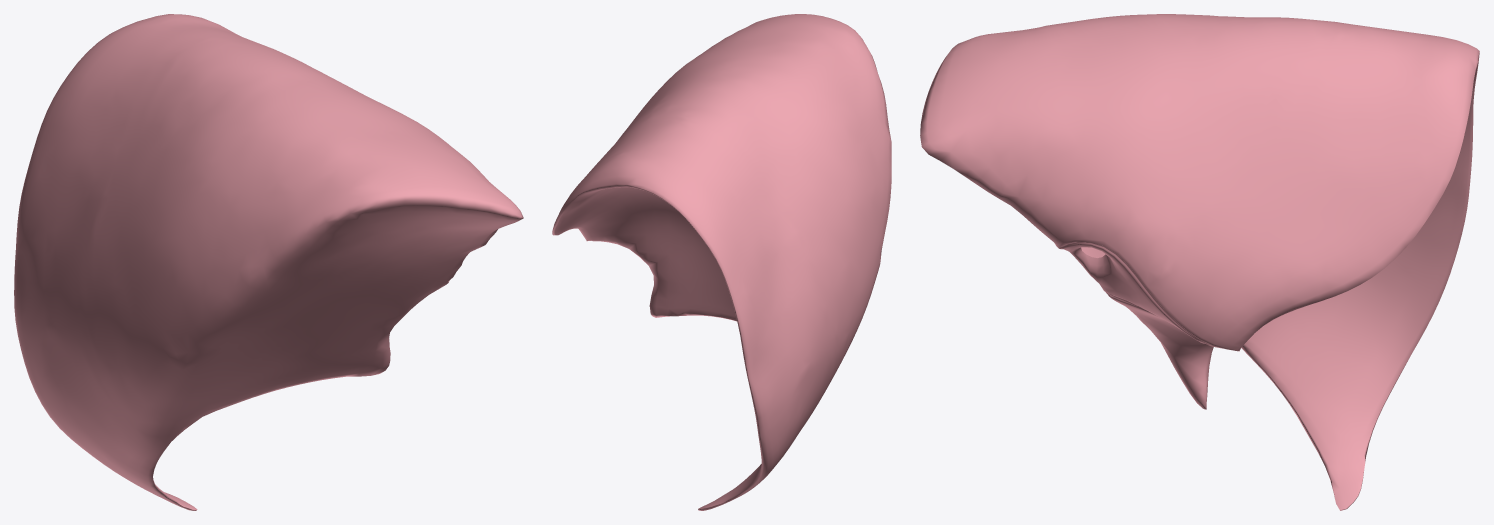
3 views of the same model, side by side, from view 1: azimuth 30°, elevation 25°; view 2: azimuth 150°, elevation 25°; view 3: azimuth 270°, elevation 25° (orthographic). The views are drawn at different scales.
Visible parts, largest first — view 1: 右肺下叶; view 2: 右肺下叶; view 3: 右肺下叶.
Boxes of the visible parts, <box> form: 右肺下叶: <box>14,14,523,510</box>; 右肺下叶: <box>552,14,891,510</box>; 右肺下叶: <box>920,14,1479,510</box>.
Size of the model in its own units: 0.1892 by 0.2591 by 0.2659.
